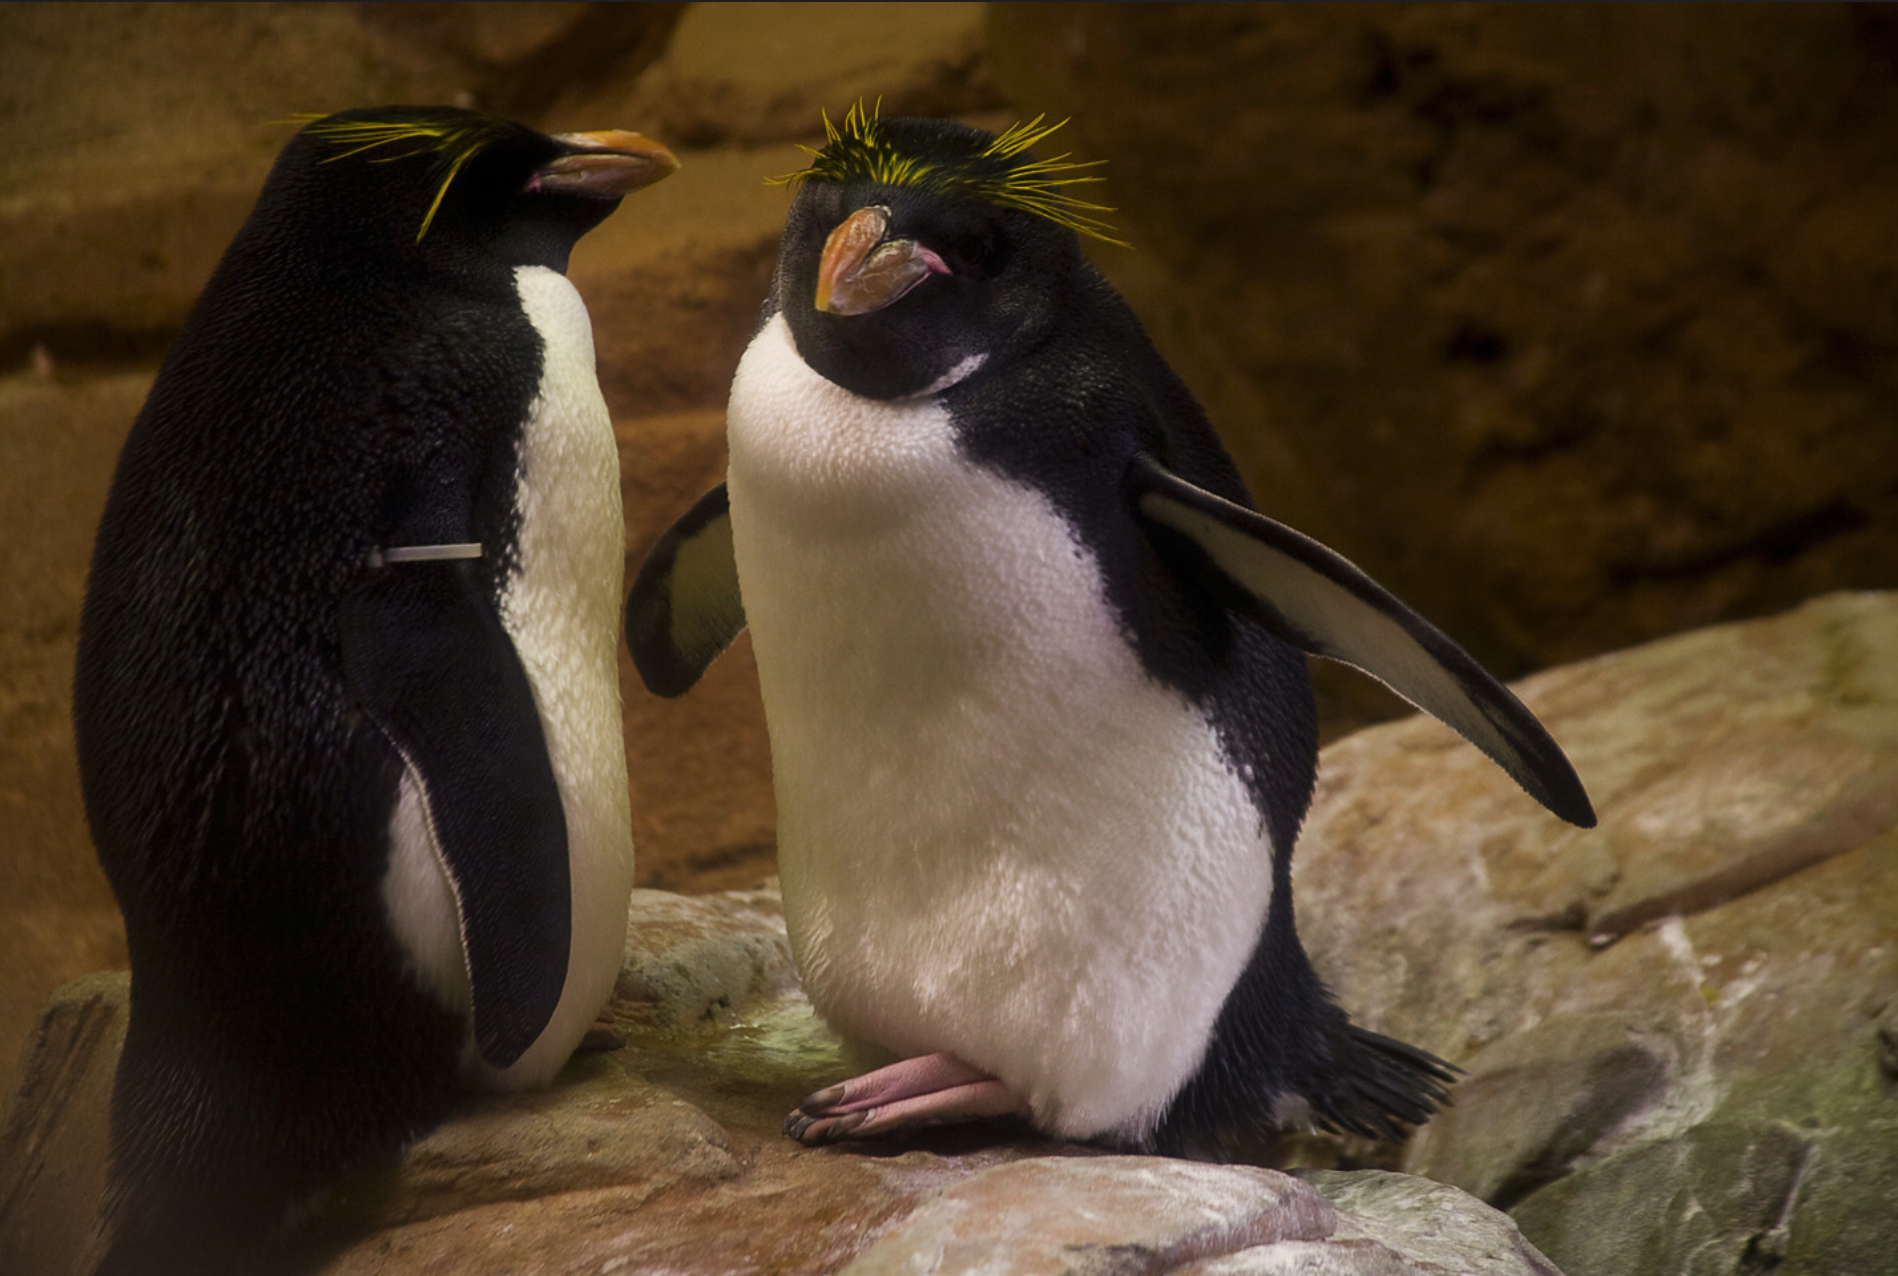penguin: (639, 113, 1610, 1192), (48, 95, 662, 1236)
